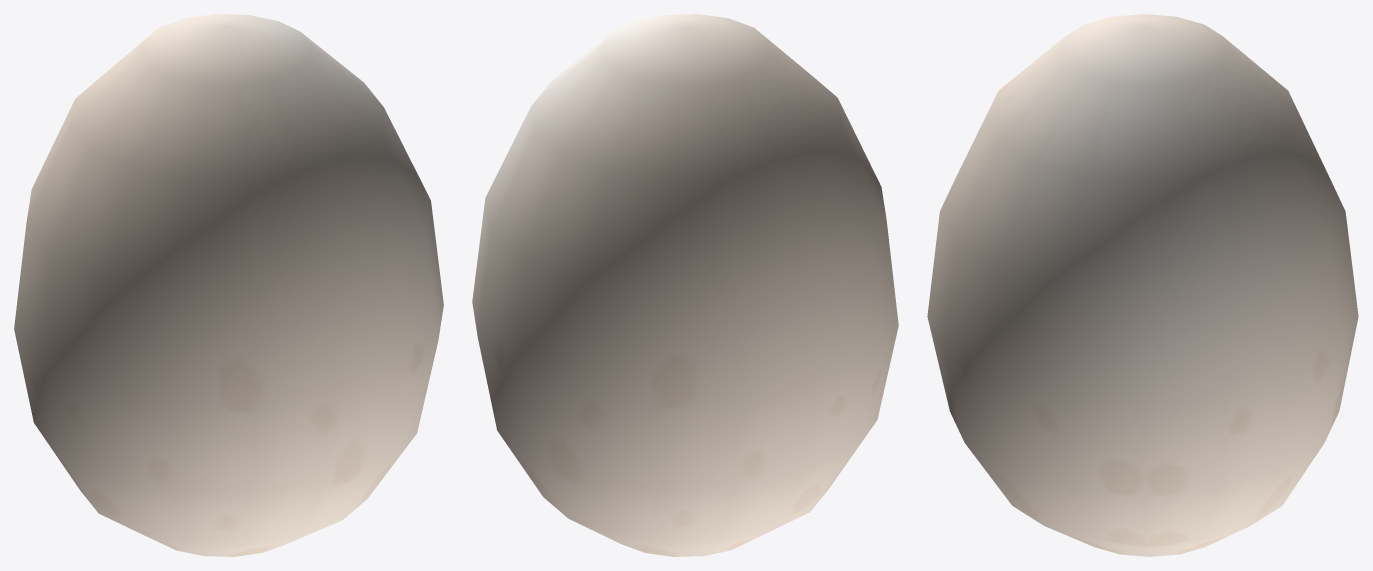
File: Egg.FBX
3 views of the same model, side by side, from view 1: azimuth 30°, elevation 25°; view 2: azimuth 150°, elevation 25°; view 3: azimuth 270°, elevation 25° (orthographic).
Visible parts, largest first — view 1: Egg; view 2: Egg; view 3: Egg.
Boxes of the visible parts, x1,y1,x2,y2 form: Egg: (14, 14, 443, 556); Egg: (472, 14, 898, 556); Egg: (927, 14, 1358, 556).
Size of the model in its own units: 119 by 155 by 119.
